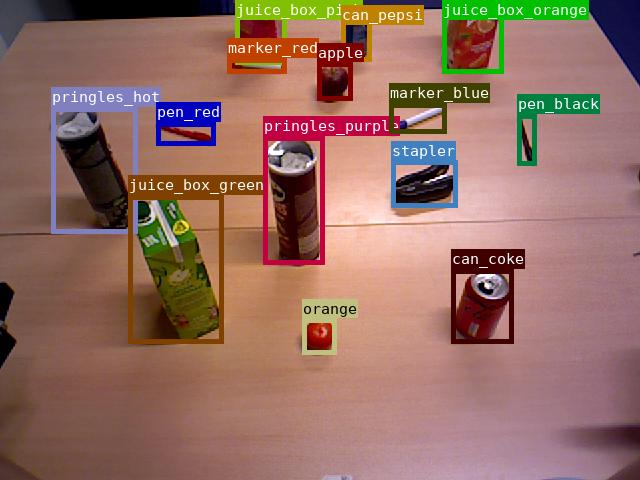apple: (317, 62, 352, 100)
can_coke: (451, 269, 513, 343)
can_pepsi: (341, 5, 371, 61)
juice_box_green: (128, 195, 223, 343)
juice_box_orange: (442, 0, 503, 73)
juice_box_pink: (235, 0, 286, 64)
marker_blue: (389, 103, 446, 133)
marker_red: (227, 58, 286, 73)
orange: (302, 318, 336, 354)
pen_black: (517, 114, 536, 165)
pen_red: (156, 122, 215, 145)
pringles_hot: (51, 107, 137, 233)
pringles_purple: (263, 136, 324, 264)
stapler: (391, 160, 457, 207)
